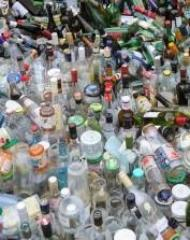glass: (0, 0, 190, 240)
